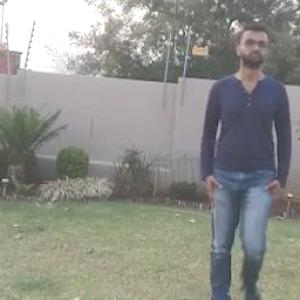follow: (190, 22, 292, 299)
